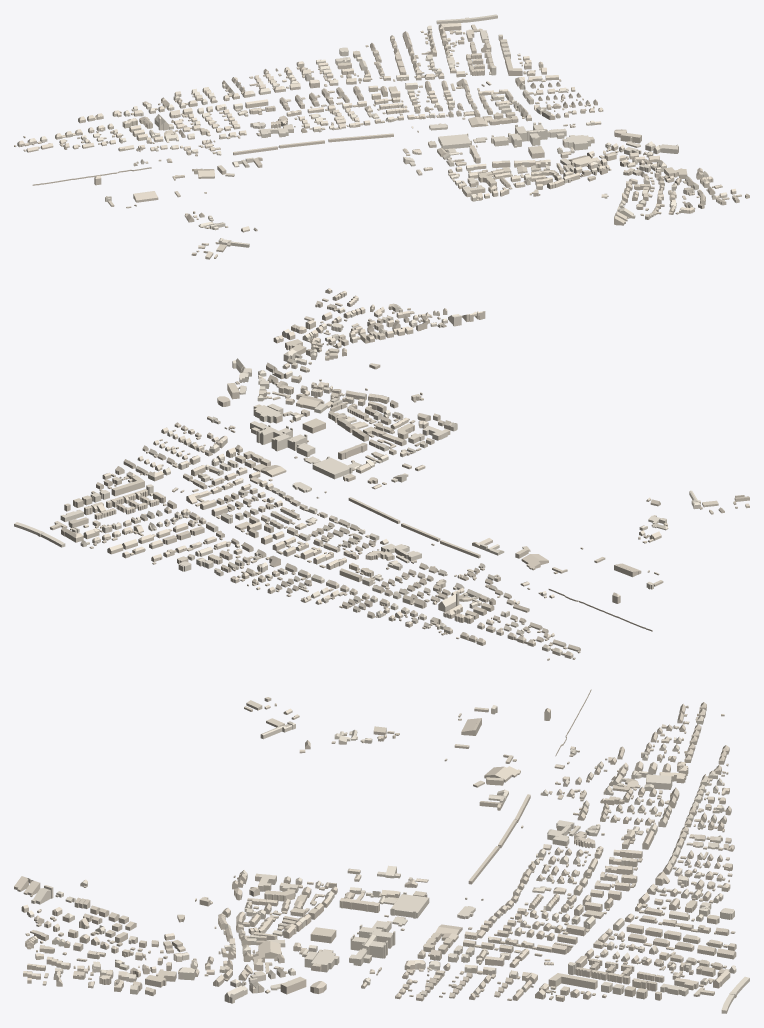
3 renders of one model, top to bottom at view 1: azimuth 30°, elevation 25°; view 2: azimuth 150°, elevation 25°; view 3: azimuth 270°, elevation 25°, orthographic. The views are drawn at different scales.
Size of the model in its own units: 1344 by 101 by 1265.
